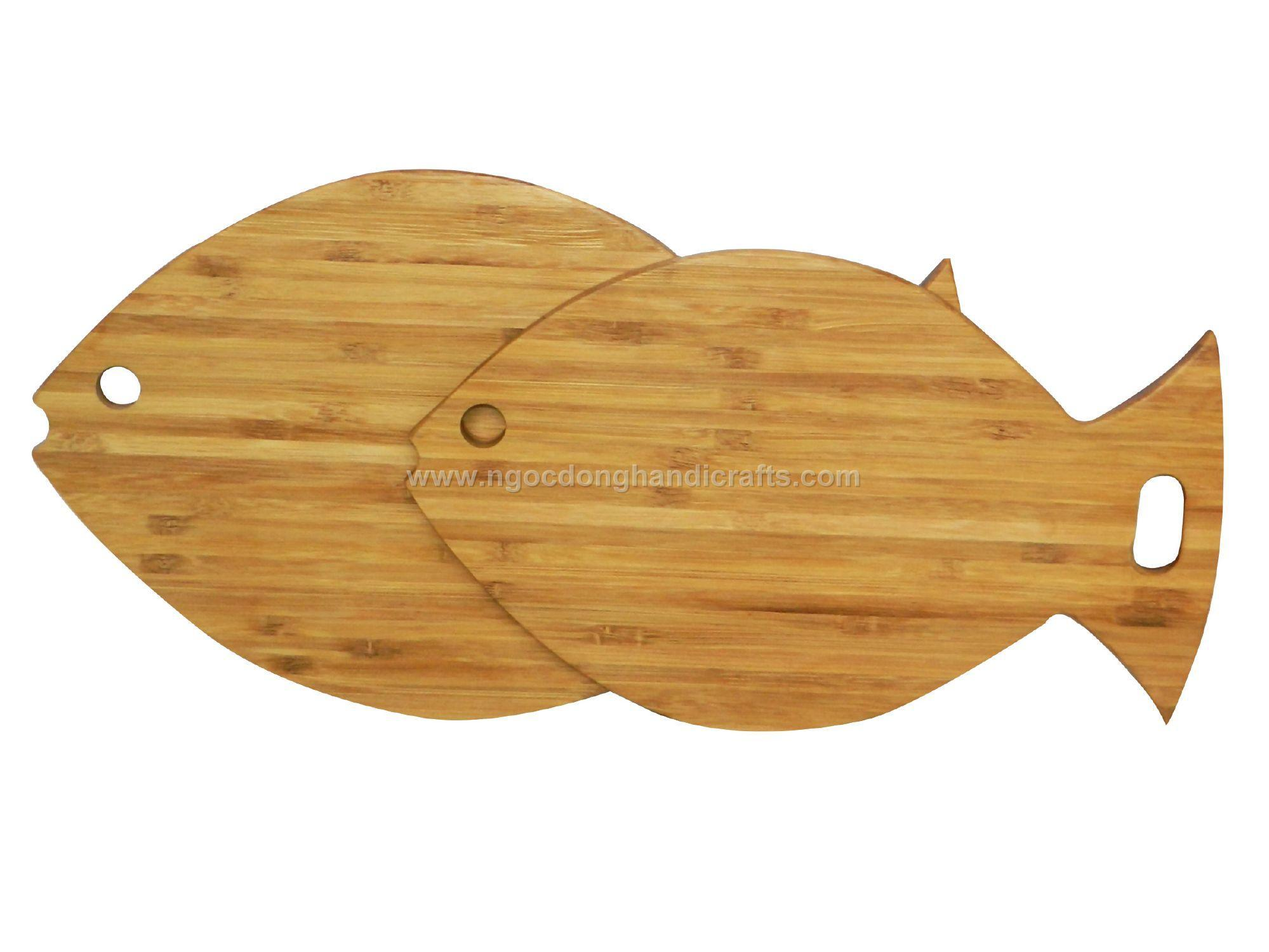gloved_hand: (394, 227, 1240, 736)
